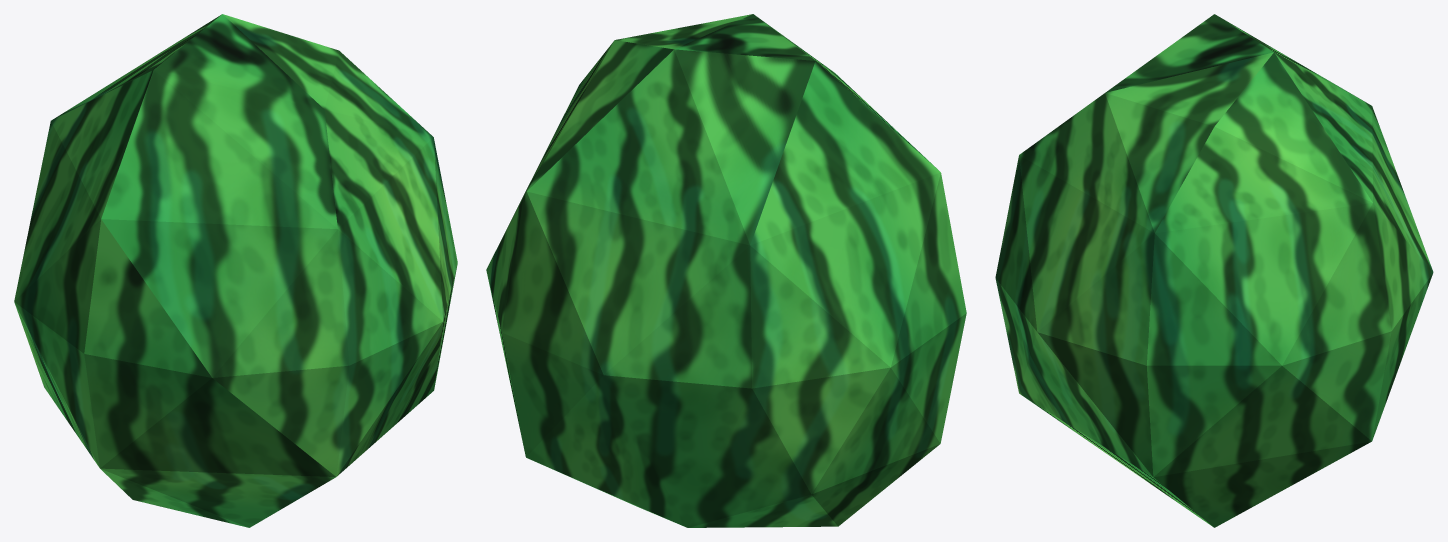
Rendered from watermelon.gltf.
3 renders of one model, left to right at view 1: azimuth 30°, elevation 25°; view 2: azimuth 150°, elevation 25°; view 3: azimuth 270°, elevation 25°, orthographic. The views are drawn at different scales.
Visible parts, largest first — view 1: Watermelon; view 2: Watermelon; view 3: Watermelon.
Boxes of the visible parts, bbox=[...] form: Watermelon: bbox=[14, 14, 457, 527]; Watermelon: bbox=[486, 14, 966, 527]; Watermelon: bbox=[995, 14, 1433, 527].
Size of the model in its own units: 0.2121 by 0.25 by 0.223.
1 material, 1 textured.
